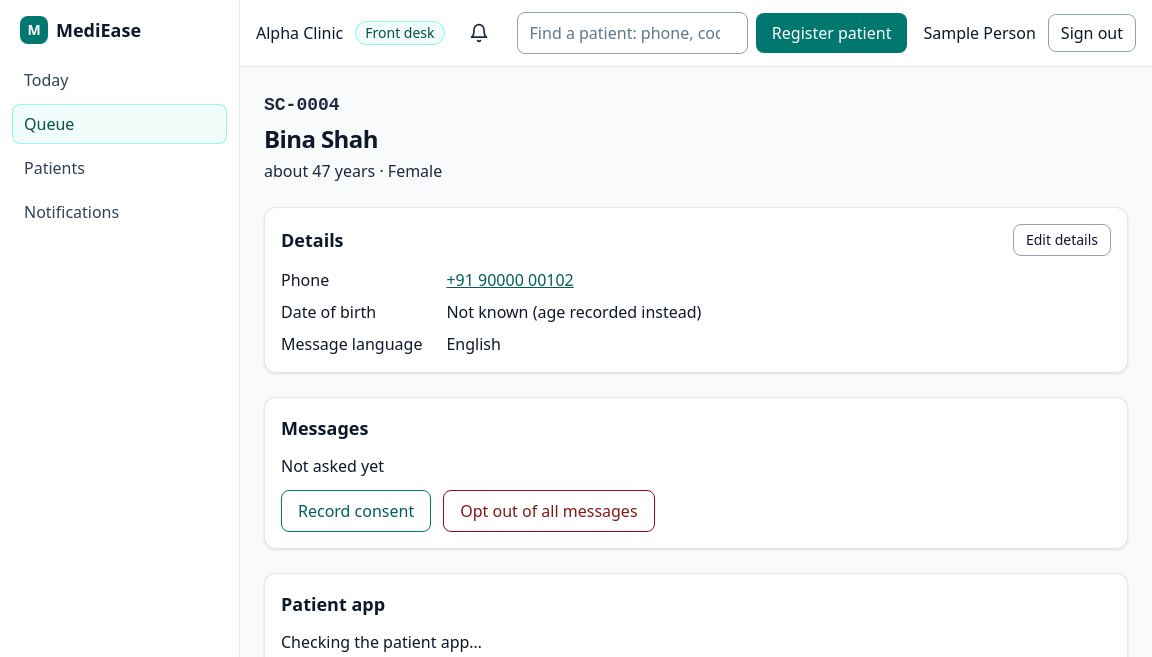
Test: patient profile › R7: Edit details sends only what changed, and there is no field for the code
Click the button "Edit details" at (1062, 240), box x1=1013 y1=224 x2=1111 y2=256
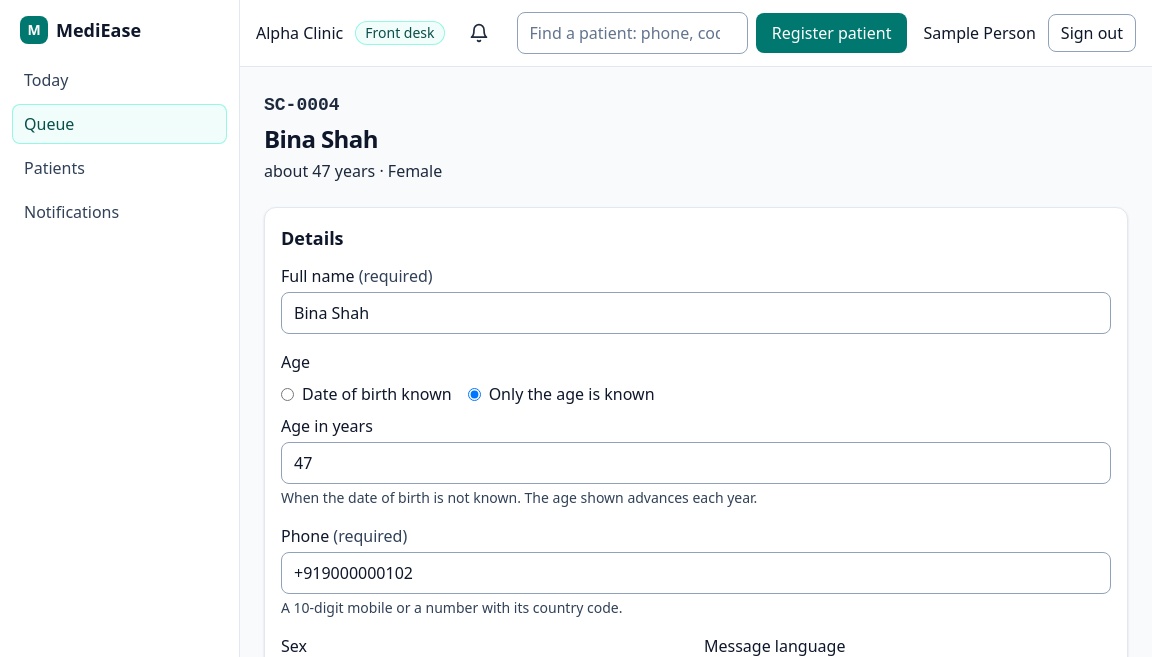
Replace the text in the field labelled "Full name (required)" with "Bina Shah Mehta" at (696, 313), box x1=281 y1=292 x2=1111 y2=334
(page scrolled)
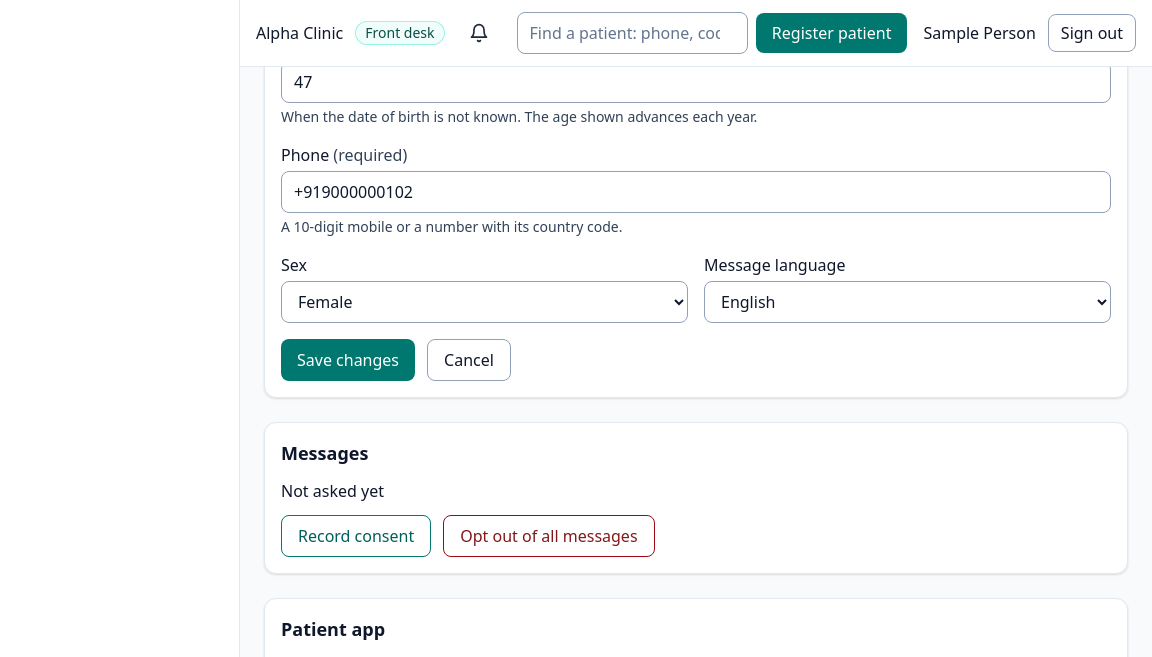
Click the button "Save changes" at (348, 360), box x1=281 y1=339 x2=415 y2=381
(page scrolled)
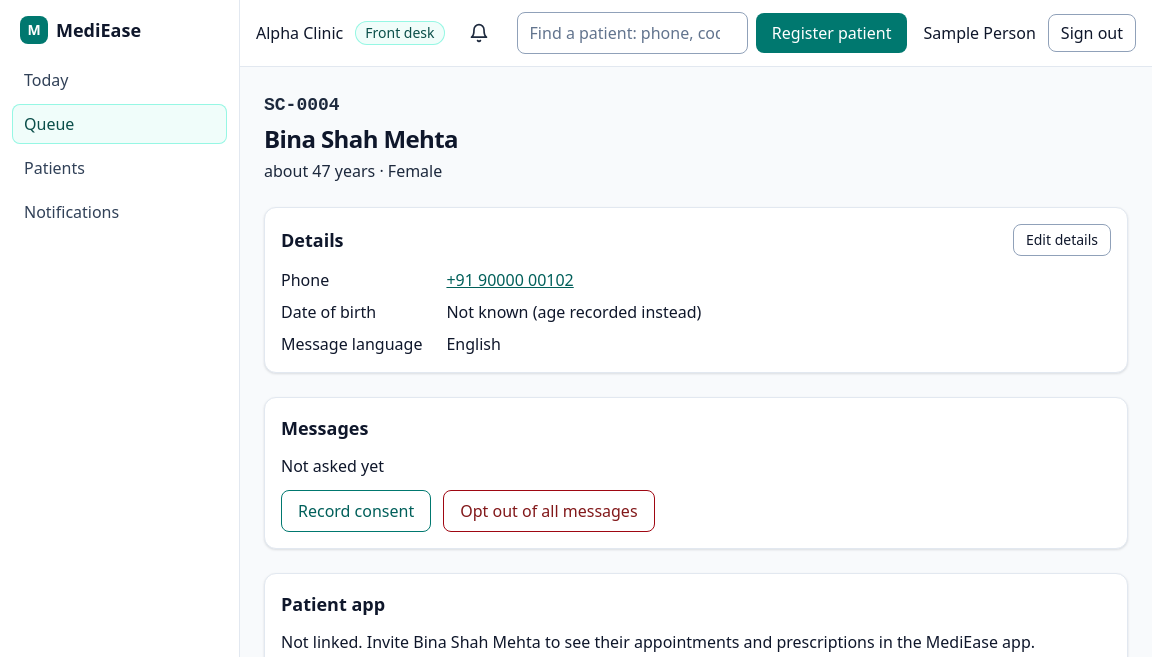
Now the heading "Bina Shah Mehta" is shown, box x1=264 y1=122 x2=458 y2=155
